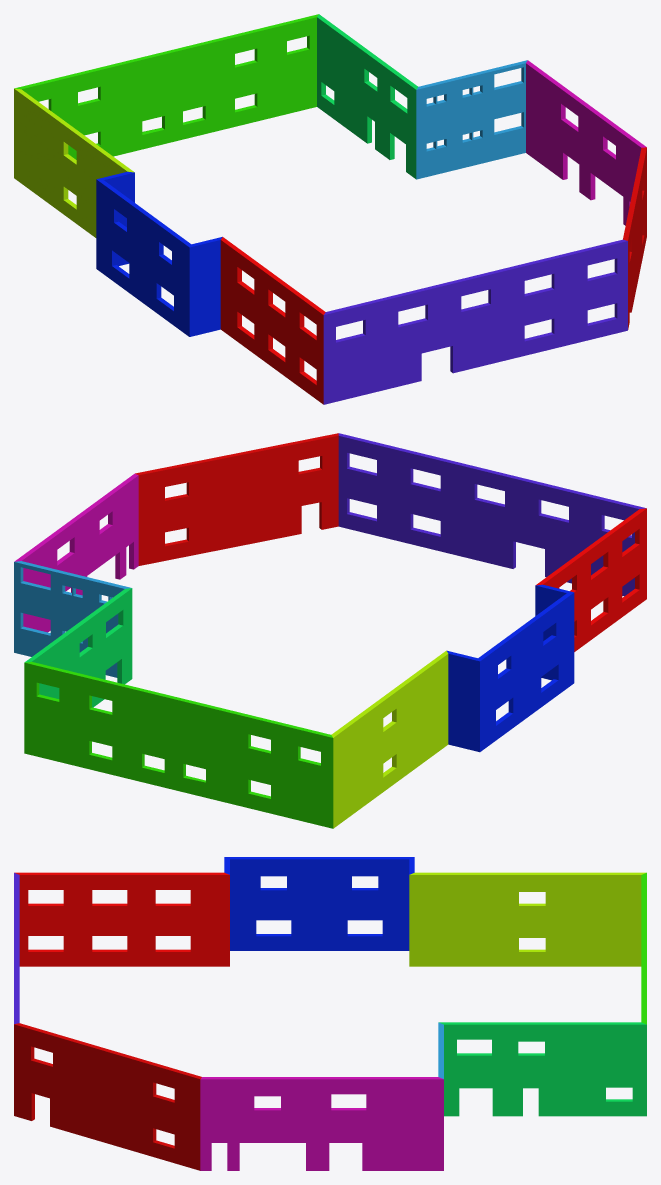
Rendered from Bank Outer Wall.FBX.
3 renders of one model, top to bottom at view 1: azimuth 30°, elevation 25°; view 2: azimuth 150°, elevation 25°; view 3: azimuth 270°, elevation 25°, orthographic. The views are drawn at different scales.
Parts seen in each view (by area): view 1: Bank Outer Wall; view 2: Bank Outer Wall; view 3: Bank Outer Wall.
Part boxes in pixels (bbox=[...]): Bank Outer Wall: bbox=[14, 14, 646, 404]; Bank Outer Wall: bbox=[14, 433, 646, 828]; Bank Outer Wall: bbox=[14, 857, 646, 1170].
Size of the model in its own units: 3619 by 696 by 4356.
